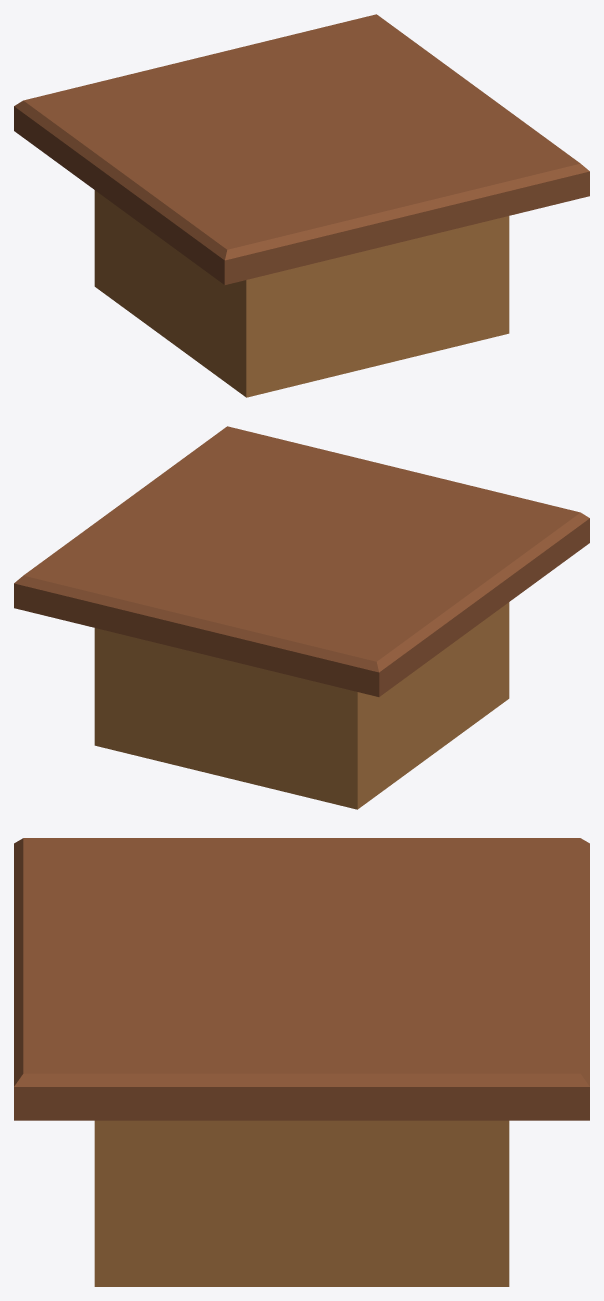
File: table1.fbx
3 views of the same model, one above another, from view 1: azimuth 30°, elevation 25°; view 2: azimuth 150°, elevation 25°; view 3: azimuth 270°, elevation 25° (orthographic). The views are drawn at different scales.
Parts seen in each view (by area): view 1: Table1; view 2: Table1; view 3: Table1.
Boxes of the visible parts, x1,y1,x2,y2 form: Table1: (14, 14, 589, 397); Table1: (14, 426, 589, 809); Table1: (14, 838, 589, 1286).
Size of the model in its own units: 209 by 97.2 by 209.
